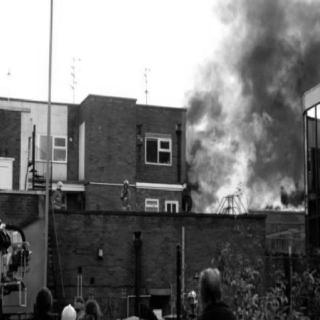Fire: (183, 120, 309, 216)
